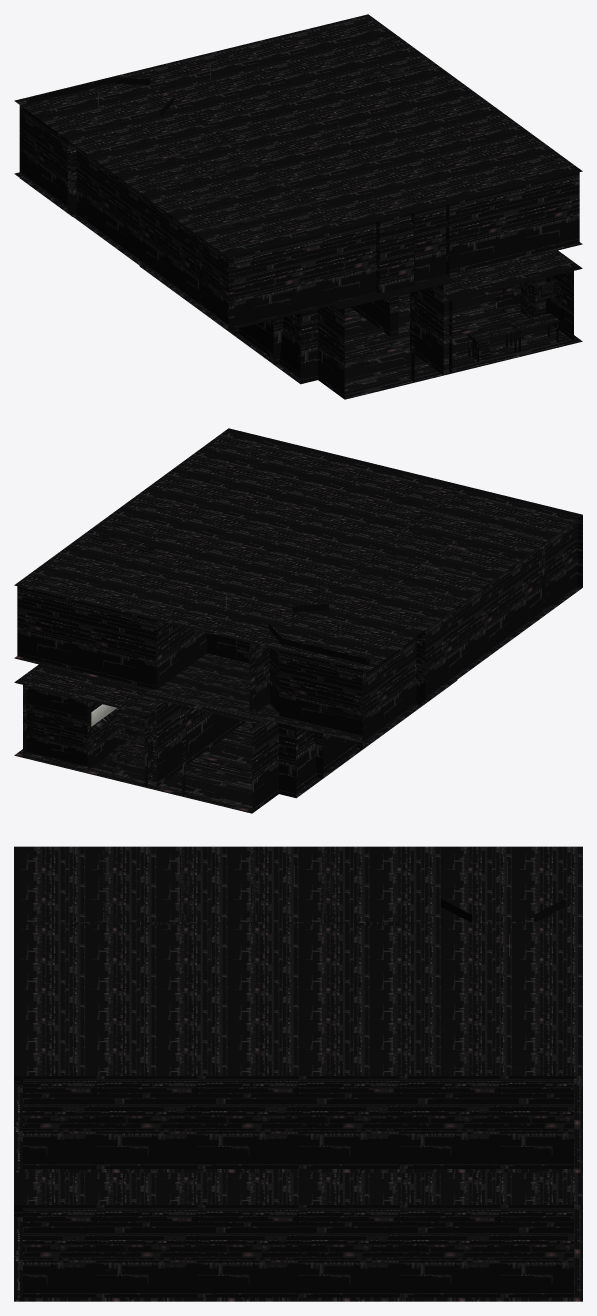
The model's file is 1123_opt.obj.
The picture shows the model from 3 angles, top to bottom: view 1: azimuth 30°, elevation 25°; view 2: azimuth 150°, elevation 25°; view 3: azimuth 270°, elevation 25°; orthographic projection. The views are drawn at different scales.
Bounding box in the file's own units: 1952 × 981 × 2048.
